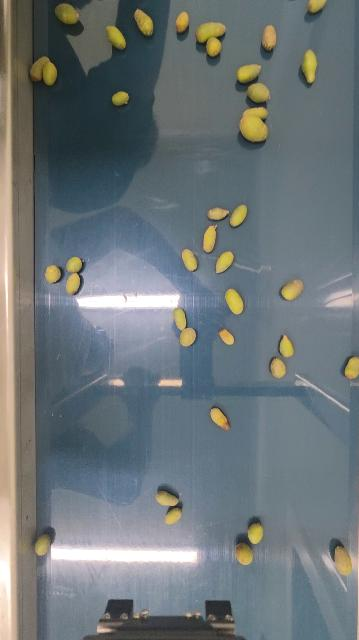Baby Potato: (238, 114, 270, 144), (195, 19, 228, 44), (332, 544, 355, 577), (301, 48, 320, 83), (236, 62, 264, 85), (133, 8, 155, 37), (55, 2, 81, 26), (105, 24, 128, 51), (209, 405, 232, 432), (224, 287, 245, 316), (246, 81, 272, 104), (29, 55, 49, 84), (281, 277, 305, 301), (41, 57, 59, 87), (215, 249, 235, 275), (155, 488, 181, 508), (202, 224, 219, 254), (230, 203, 249, 228), (261, 24, 278, 51), (235, 542, 254, 566), (181, 247, 199, 272), (247, 521, 265, 546), (34, 532, 52, 557), (242, 104, 270, 120), (64, 271, 82, 295), (278, 334, 295, 359), (269, 357, 288, 379), (207, 205, 231, 222), (173, 305, 189, 330), (344, 354, 359, 380), (164, 505, 183, 525), (180, 326, 198, 347), (205, 36, 223, 57), (175, 10, 190, 34), (44, 264, 62, 284), (111, 89, 130, 107), (218, 327, 235, 346), (66, 256, 83, 274), (308, 0, 328, 14)
